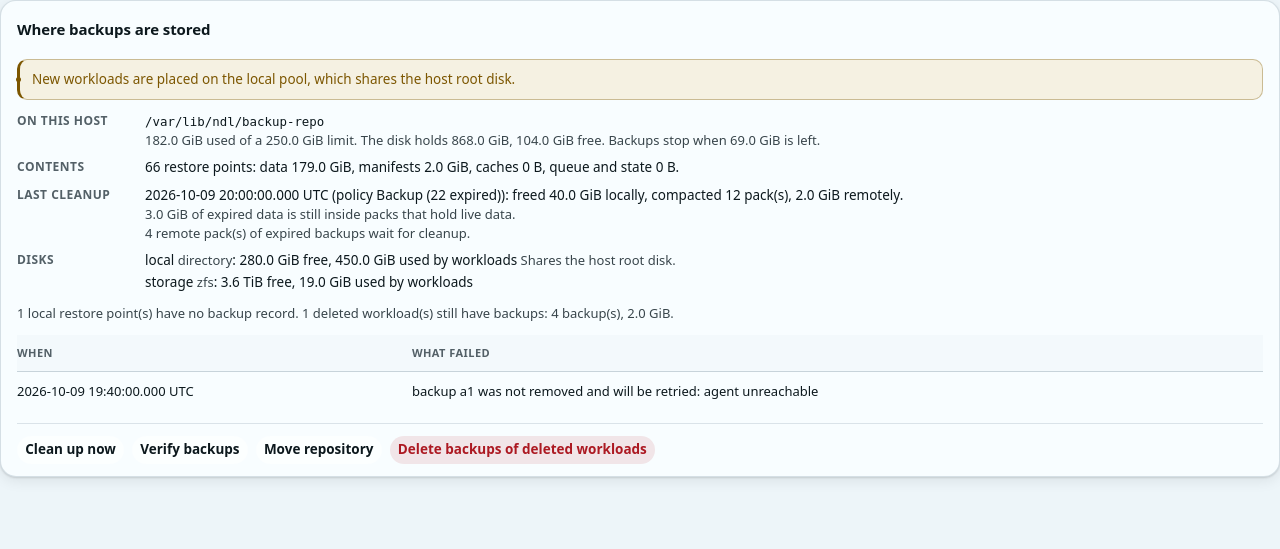
BackupStoragePanel › deletes the backups of deleted workloads after confirming
The width and height of the screenshot is (1280, 549).
Step 1. Click the button "Delete backups of deleted workloads" → (522, 450), box [390,436,655,464]
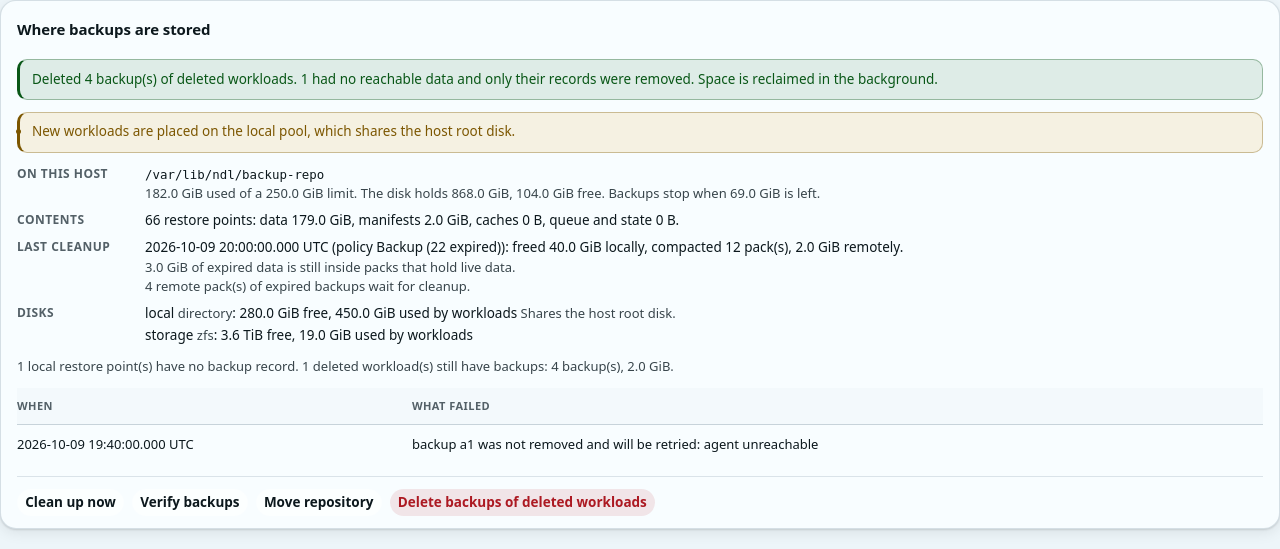
Expected: the text "Deleted 4 backup(s) of deleted workloads" is shown, [32,70,938,88]
